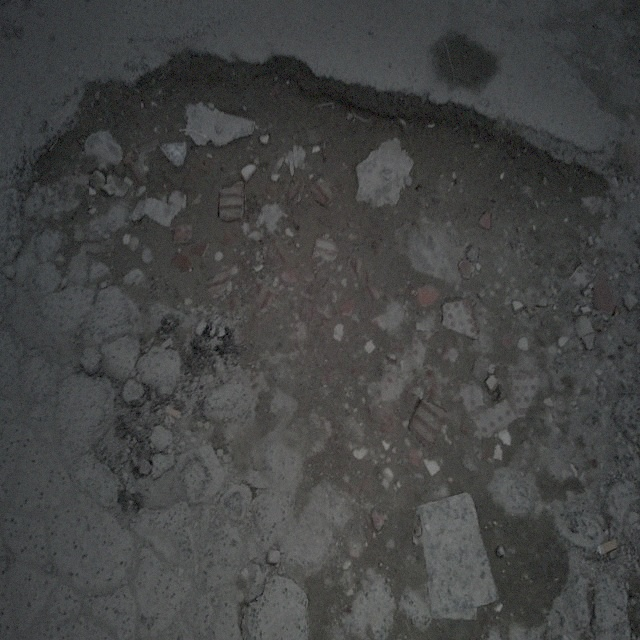pothole: (14, 35, 618, 580)
